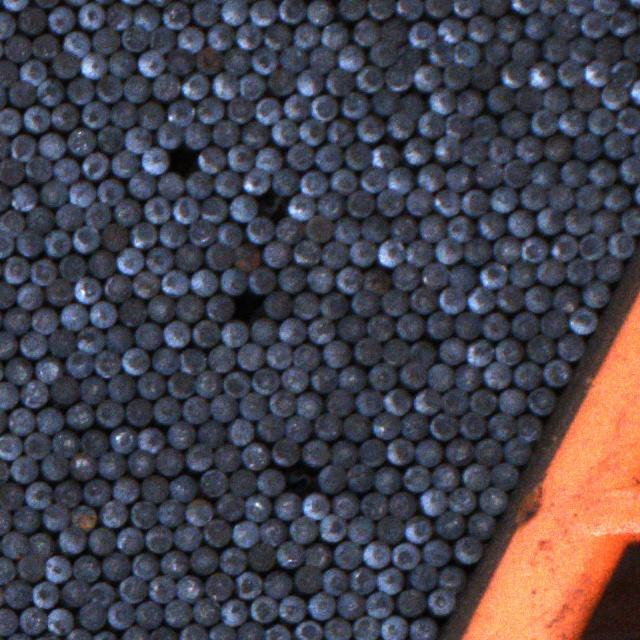tool: (46, 328, 76, 357), (336, 314, 366, 342), (384, 62, 412, 91), (501, 436, 530, 464), (103, 274, 132, 302), (204, 242, 233, 270), (59, 302, 87, 331), (263, 290, 292, 318), (320, 340, 349, 368), (525, 336, 554, 364), (375, 515, 404, 543), (1, 530, 30, 558), (293, 564, 322, 592), (408, 562, 437, 590), (444, 164, 474, 191), (4, 34, 32, 62), (165, 47, 193, 75), (600, 82, 628, 110), (502, 159, 530, 187), (474, 160, 502, 188), (416, 163, 444, 191), (346, 189, 374, 217), (418, 214, 446, 242), (568, 306, 596, 334), (492, 236, 520, 264), (478, 261, 506, 289), (118, 298, 146, 326), (351, 288, 379, 316), (236, 342, 264, 370), (80, 430, 108, 458), (316, 464, 344, 492), (445, 437, 473, 465), (447, 487, 475, 515), (346, 516, 374, 544), (306, 592, 334, 620), (336, 592, 364, 620), (18, 606, 46, 634), (151, 73, 180, 100), (325, 68, 354, 95), (354, 65, 383, 92), (54, 203, 83, 230), (388, 216, 417, 243), (477, 487, 506, 514), (18, 331, 47, 358), (75, 326, 104, 353), (105, 324, 132, 353), (395, 313, 424, 340), (17, 7, 45, 34), (320, 22, 347, 50), (580, 10, 607, 38), (594, 36, 621, 64), (602, 131, 630, 158), (67, 128, 95, 155), (226, 144, 254, 171), (286, 142, 314, 169), (559, 160, 587, 187), (530, 162, 558, 189), (127, 171, 155, 198), (185, 171, 213, 198), (213, 170, 241, 197), (486, 136, 514, 163), (287, 192, 314, 220), (375, 188, 402, 216), (405, 188, 433, 215), (228, 194, 256, 221), (245, 216, 273, 243), (304, 213, 332, 240), (446, 215, 474, 242), (534, 207, 562, 234), (542, 359, 570, 386), (526, 387, 554, 414), (454, 535, 481, 563), (45, 278, 72, 306), (189, 268, 216, 296), (376, 239, 403, 267), (434, 237, 462, 264), (550, 234, 577, 262), (578, 233, 606, 260), (147, 294, 174, 322), (176, 294, 203, 322), (66, 350, 93, 378), (121, 346, 148, 374), (439, 286, 466, 314), (480, 312, 508, 339), (540, 310, 568, 337), (454, 364, 482, 391), (20, 380, 47, 408), (51, 375, 78, 403), (182, 396, 209, 424), (399, 412, 426, 440), (474, 438, 501, 466), (345, 464, 372, 492), (402, 465, 430, 492), (462, 463, 489, 491), (23, 481, 51, 508), (140, 475, 168, 502), (362, 540, 389, 568), (273, 492, 301, 519), (276, 540, 303, 568), (333, 541, 361, 568), (12, 506, 40, 533), (62, 580, 90, 607), (78, 602, 105, 630), (118, 576, 146, 603), (204, 573, 232, 600), (234, 571, 262, 598), (134, 600, 162, 627), (308, 45, 334, 74), (411, 65, 440, 91), (100, 222, 126, 251), (261, 240, 290, 266), (425, 364, 454, 390), (428, 414, 457, 440), (398, 588, 424, 617), (92, 27, 119, 54), (108, 50, 135, 77), (137, 49, 164, 76), (194, 47, 221, 74), (267, 68, 294, 95), (111, 150, 138, 177), (314, 143, 341, 170), (9, 183, 36, 210), (41, 180, 68, 207), (461, 189, 488, 216), (575, 184, 602, 211), (603, 183, 630, 210), (15, 230, 42, 257), (72, 225, 99, 252), (188, 219, 215, 246), (58, 254, 85, 281), (116, 247, 143, 274), (145, 247, 172, 274), (174, 243, 201, 270), (360, 215, 387, 242), (73, 276, 100, 303), (320, 241, 347, 268), (463, 238, 490, 265), (88, 301, 115, 328), (205, 294, 232, 321), (410, 286, 437, 313), (425, 311, 452, 338), (78, 376, 105, 403), (136, 372, 163, 399), (368, 362, 395, 389), (125, 399, 152, 426), (210, 394, 237, 421), (52, 429, 79, 456), (314, 413, 341, 440), (9, 456, 36, 483), (240, 442, 267, 469), (436, 511, 463, 538), (157, 499, 184, 526), (243, 494, 270, 521), (41, 503, 68, 530), (189, 547, 216, 574), (164, 599, 191, 626), (78, 2, 104, 30), (162, 2, 190, 28), (250, 0, 278, 26), (122, 24, 148, 52), (378, 20, 406, 46), (523, 13, 551, 39), (82, 100, 108, 128), (282, 94, 310, 120), (571, 84, 599, 110), (500, 111, 528, 137), (142, 146, 168, 174), (254, 147, 282, 173), (299, 170, 327, 196), (158, 221, 186, 247), (87, 251, 115, 277), (606, 232, 634, 258), (581, 280, 609, 306), (488, 463, 516, 489), (466, 512, 494, 538), (133, 270, 159, 298), (392, 262, 418, 290), (420, 262, 448, 288), (508, 260, 536, 286), (366, 315, 394, 341), (510, 313, 538, 339), (354, 337, 380, 365), (514, 362, 540, 390), (482, 362, 510, 388), (251, 368, 279, 394), (440, 388, 468, 414), (373, 466, 399, 494), (431, 463, 457, 491), (200, 470, 228, 496), (228, 470, 256, 496), (256, 470, 284, 496), (418, 488, 446, 514), (422, 540, 450, 566), (319, 513, 345, 541), (288, 516, 316, 542), (184, 499, 212, 525), (216, 494, 244, 520), (259, 518, 285, 546), (247, 544, 275, 570), (160, 550, 186, 578), (16, 553, 42, 581), (148, 575, 174, 603), (263, 571, 291, 597), (365, 592, 393, 618), (556, 110, 585, 135), (435, 19, 465, 43), (48, 6, 74, 33), (132, 4, 159, 30), (31, 34, 58, 60), (63, 31, 90, 57), (19, 60, 46, 86), (408, 21, 434, 48), (552, 13, 579, 39), (337, 45, 363, 72), (369, 40, 396, 66), (66, 77, 92, 104), (95, 75, 122, 101), (123, 75, 149, 102), (238, 73, 264, 100), (295, 69, 322, 95), (442, 62, 468, 89), (610, 60, 636, 87), (166, 100, 193, 126), (196, 97, 223, 123), (254, 97, 280, 124), (310, 94, 336, 121), (587, 108, 614, 134), (530, 109, 556, 136), (38, 133, 65, 159), (124, 126, 150, 153), (183, 122, 210, 148), (198, 147, 225, 173), (271, 118, 297, 145), (326, 118, 352, 145), (417, 111, 443, 138), (573, 134, 600, 160), (515, 136, 542, 162), (81, 152, 107, 179), (157, 172, 183, 199), (242, 167, 268, 194), (272, 168, 298, 195), (403, 138, 430, 164), (329, 168, 355, 195), (316, 192, 343, 218), (68, 180, 95, 206), (113, 199, 140, 225), (172, 196, 198, 223), (276, 216, 302, 243), (129, 222, 156, 248), (3, 256, 29, 283), (332, 217, 359, 243), (564, 207, 590, 234), (591, 209, 618, 235), (427, 588, 454, 614), (293, 239, 319, 266), (348, 239, 375, 265), (405, 240, 432, 266), (520, 236, 547, 262), (219, 268, 246, 294), (306, 266, 332, 293), (361, 269, 388, 295), (2, 308, 29, 334), (31, 307, 58, 333), (381, 288, 408, 314), (4, 358, 31, 384), (94, 350, 120, 377), (163, 320, 189, 347), (193, 319, 219, 346), (178, 348, 205, 374), (467, 286, 494, 312), (496, 284, 522, 311), (524, 285, 550, 312), (552, 285, 578, 312), (382, 339, 408, 366), (466, 339, 492, 366), (494, 340, 521, 366), (107, 375, 134, 401), (153, 397, 179, 424), (238, 392, 264, 419), (355, 389, 382, 415), (384, 388, 410, 415), (110, 427, 136, 454), (227, 418, 253, 445), (82, 479, 109, 505), (169, 475, 195, 502), (404, 516, 431, 542), (100, 500, 126, 527), (219, 548, 246, 574), (116, 527, 143, 553), (43, 556, 70, 582), (73, 555, 99, 582), (102, 552, 129, 578), (131, 553, 158, 579), (173, 522, 200, 548), (3, 580, 30, 606), (107, 601, 133, 628), (175, 576, 202, 602), (376, 567, 402, 594), (192, 598, 219, 624), (250, 596, 277, 622), (192, 0, 220, 25), (220, 0, 248, 25), (608, 10, 636, 35), (222, 49, 250, 74), (235, 243, 260, 271), (34, 357, 62, 382), (409, 340, 434, 368), (498, 389, 526, 414), (330, 440, 355, 468), (413, 440, 441, 465), (203, 520, 231, 545), (70, 504, 95, 532), (52, 52, 78, 78), (467, 16, 493, 42), (494, 15, 520, 41), (251, 49, 277, 75), (528, 62, 554, 88), (501, 62, 527, 88), (470, 62, 496, 88), (181, 73, 207, 99), (558, 60, 584, 86), (137, 102, 163, 128), (455, 90, 481, 116), (212, 120, 238, 146), (241, 122, 267, 148), (298, 119, 324, 145), (356, 116, 382, 142), (386, 112, 412, 138), (470, 115, 496, 141), (386, 167, 412, 193), (359, 166, 385, 192), (97, 178, 123, 204), (143, 196, 169, 222), (490, 186, 516, 212), (520, 183, 546, 209), (44, 230, 70, 256), (29, 259, 55, 285), (557, 334, 583, 360), (514, 415, 540, 441), (438, 565, 464, 591), (16, 283, 42, 309), (161, 270, 187, 296), (248, 268, 274, 294), (278, 266, 304, 292), (334, 266, 360, 292), (448, 264, 474, 290), (537, 259, 563, 285), (565, 258, 591, 284), (292, 292, 318, 318), (152, 348, 178, 374), (208, 346, 234, 372), (251, 318, 277, 344), (278, 318, 304, 344), (307, 317, 333, 343), (266, 342, 292, 368), (292, 344, 318, 370), (454, 312, 480, 338), (194, 370, 220, 396), (280, 366, 306, 392), (338, 366, 364, 392), (399, 362, 425, 388), (66, 403, 92, 429), (96, 401, 122, 427), (269, 390, 295, 416), (413, 388, 439, 414), (24, 432, 50, 458), (168, 422, 194, 448), (372, 412, 398, 438), (156, 448, 182, 474), (186, 444, 212, 470), (302, 440, 328, 466), (386, 438, 412, 464), (54, 480, 80, 506), (112, 477, 138, 503), (392, 542, 418, 568), (360, 492, 386, 518), (302, 492, 328, 518), (232, 521, 258, 547), (88, 528, 114, 554), (32, 582, 58, 608), (348, 568, 374, 594), (220, 599, 246, 625), (278, 595, 304, 621), (263, 25, 290, 50), (292, 24, 319, 49), (8, 80, 35, 105), (36, 79, 63, 104), (227, 97, 254, 122), (544, 136, 571, 161), (587, 161, 614, 186), (434, 189, 459, 216), (85, 202, 110, 229), (479, 212, 504, 239), (507, 210, 532, 237), (220, 321, 247, 346), (438, 339, 465, 364), (222, 372, 249, 397), (310, 367, 337, 392), (69, 452, 94, 479), (89, 581, 114, 608), (108, 102, 136, 126), (541, 88, 569, 112), (319, 294, 347, 318), (80, 52, 105, 78), (177, 27, 203, 52), (235, 24, 260, 50), (281, 46, 306, 72), (453, 40, 479, 65), (512, 39, 538, 64), (213, 73, 238, 99), (584, 60, 609, 86), (341, 92, 366, 118), (97, 126, 122, 152), (444, 112, 469, 138), (52, 158, 78, 183), (345, 143, 370, 169), (371, 144, 397, 169), (27, 206, 52, 232), (548, 184, 573, 210), (215, 222, 241, 247), (167, 372, 193, 397), (36, 408, 61, 434), (326, 389, 351, 415), (138, 428, 164, 453), (198, 422, 224, 447), (284, 415, 310, 440), (460, 412, 485, 438), (488, 414, 514, 439), (98, 452, 123, 478), (358, 440, 384, 465), (388, 492, 413, 518), (332, 492, 357, 518), (130, 502, 156, 527), (145, 526, 170, 552), (59, 527, 84, 553), (28, 532, 53, 558), (380, 615, 406, 640), (108, 1, 132, 28), (149, 26, 173, 53), (594, 256, 621, 280), (322, 568, 346, 595), (48, 608, 72, 635), (617, 156, 640, 184), (207, 24, 232, 49), (487, 85, 512, 110), (25, 156, 50, 181), (434, 136, 459, 161), (201, 197, 226, 222), (344, 414, 369, 439), (214, 445, 239, 470), (272, 439, 297, 464), (306, 0, 332, 24), (23, 106, 49, 130), (51, 104, 77, 128), (429, 90, 455, 114), (10, 134, 34, 160), (460, 138, 484, 164), (8, 408, 32, 434), (296, 392, 320, 418), (470, 390, 496, 414), (40, 454, 66, 478), (128, 450, 152, 476), (303, 544, 329, 568), (352, 616, 378, 640), (409, 617, 436, 640), (0, 482, 23, 509), (278, 0, 306, 22), (353, 20, 378, 44), (568, 38, 593, 62), (542, 37, 566, 62), (399, 95, 424, 119), (136, 324, 161, 348), (258, 415, 282, 440), (617, 108, 640, 134), (514, 88, 540, 111), (157, 122, 180, 148), (0, 158, 23, 184), (0, 210, 23, 236), (430, 41, 453, 66), (370, 92, 395, 115), (292, 620, 320, 640), (485, 40, 508, 64), (324, 618, 349, 640), (0, 108, 21, 134), (620, 207, 640, 234), (338, 0, 366, 19), (366, 0, 394, 19), (396, 0, 422, 20), (0, 435, 21, 459), (236, 622, 264, 640), (426, 0, 454, 17), (453, 0, 479, 17), (0, 382, 17, 408), (0, 608, 17, 634), (0, 281, 16, 308), (178, 624, 205, 640), (208, 624, 235, 640), (0, 62, 17, 87), (0, 331, 15, 359), (623, 36, 640, 60), (0, 11, 15, 38), (481, 0, 508, 15), (121, 625, 148, 640), (264, 624, 289, 640), (0, 556, 14, 584), (540, 0, 566, 14), (566, 0, 592, 14), (593, 0, 619, 14), (0, 230, 13, 257), (148, 627, 175, 640), (512, 0, 538, 13), (0, 506, 11, 534), (1, 0, 28, 10)
tool_b: (280, 466, 320, 494), (254, 189, 286, 217), (397, 46, 421, 72)
void: (233, 293, 264, 320), (167, 144, 198, 169)
